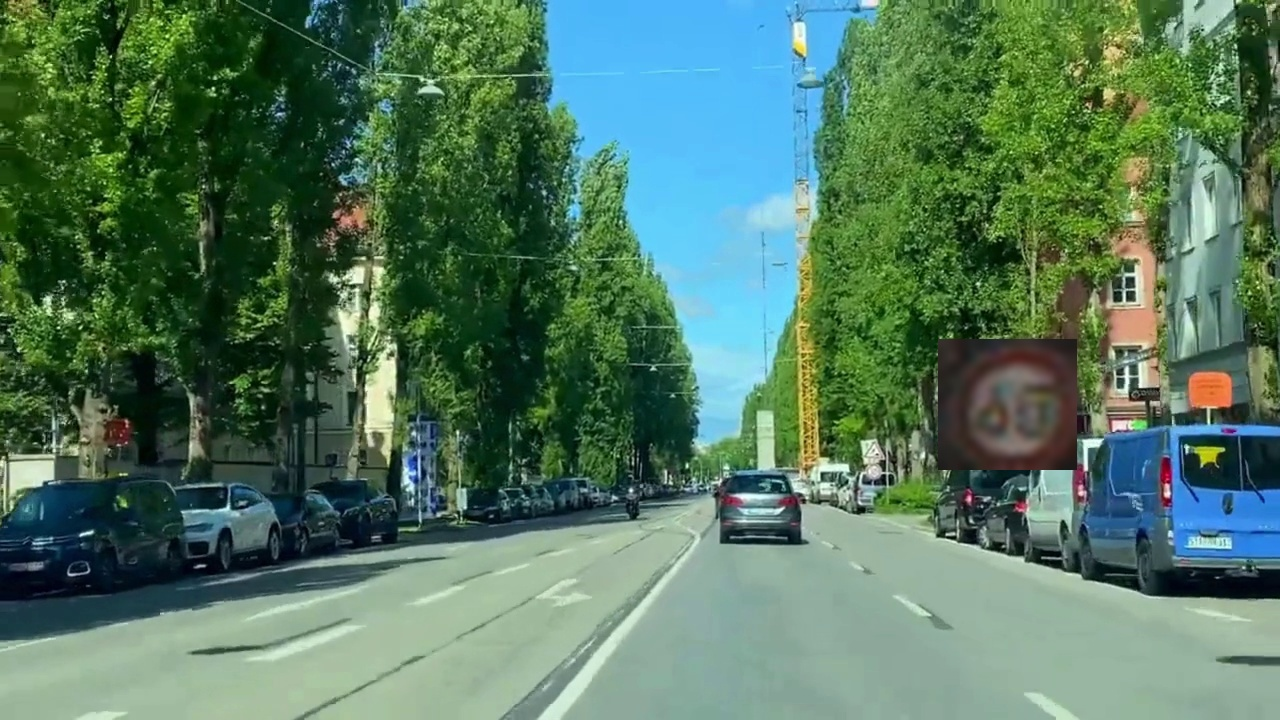Speed 60: (938, 339, 1077, 470)
